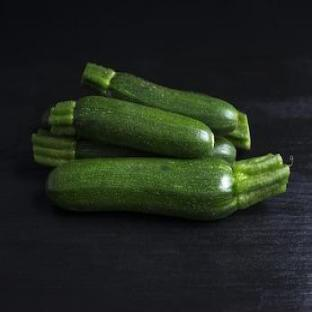Zucchini: (47, 155, 289, 219), (82, 64, 239, 135), (49, 96, 213, 158), (32, 129, 155, 166), (226, 112, 250, 149)
